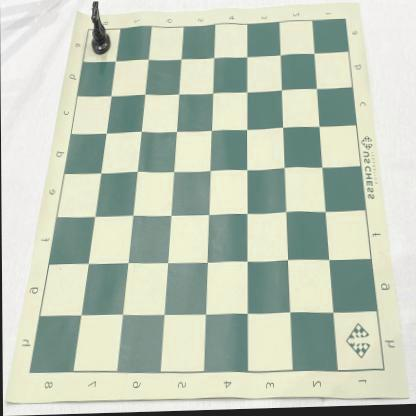black-knight: (90, 2, 111, 57)
